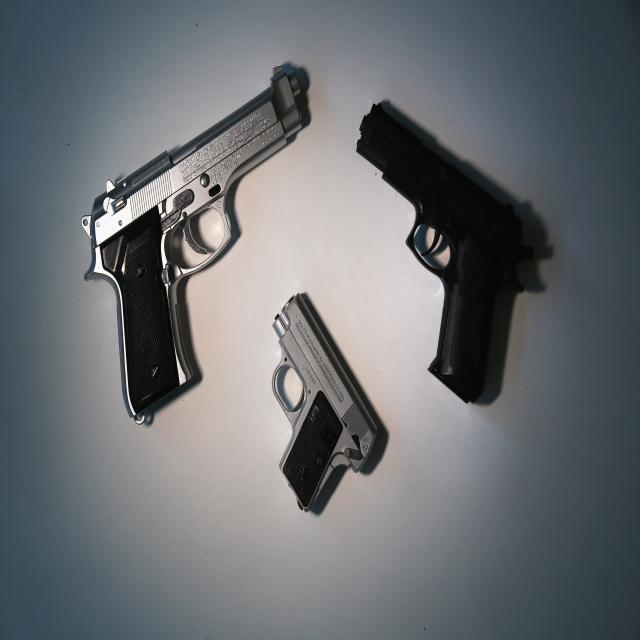HandGun: (81, 62, 312, 428), (356, 101, 553, 407), (272, 294, 390, 517)
